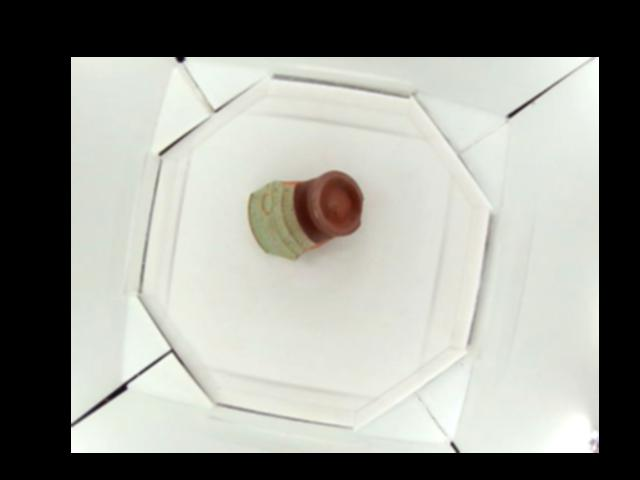China: (245, 169, 363, 261)
